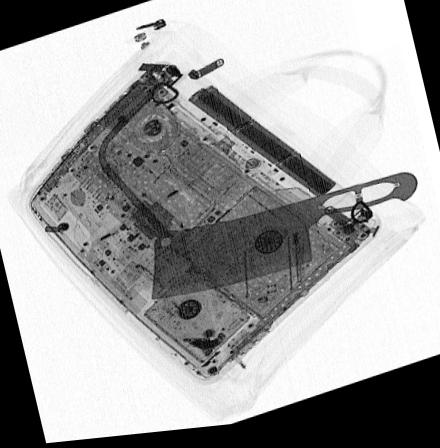Knife: (148, 179, 421, 302)
